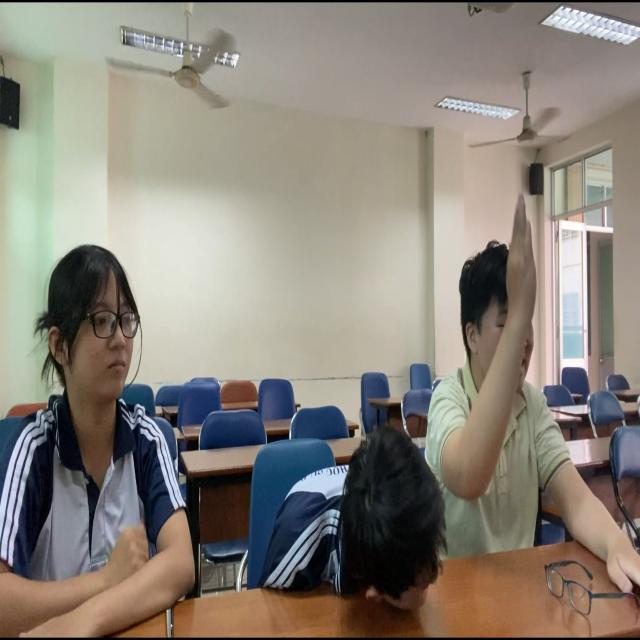raise_hand: (425, 199, 607, 572)
sleep: (247, 433, 457, 622)
